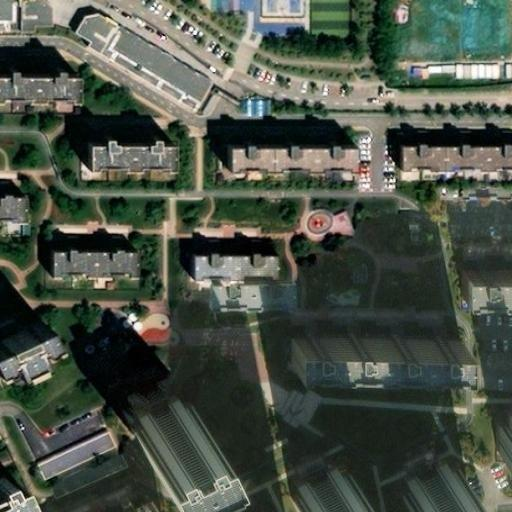building: (71, 23, 214, 117), (280, 329, 451, 358), (31, 424, 115, 482), (44, 449, 127, 499), (394, 447, 464, 503), (122, 395, 194, 449), (287, 457, 355, 512), (233, 157, 363, 185), (406, 157, 512, 186), (0, 346, 56, 397), (90, 152, 176, 181), (193, 264, 273, 295), (0, 84, 84, 112), (56, 257, 137, 283), (409, 60, 508, 78), (486, 407, 512, 446), (0, 202, 30, 229)
